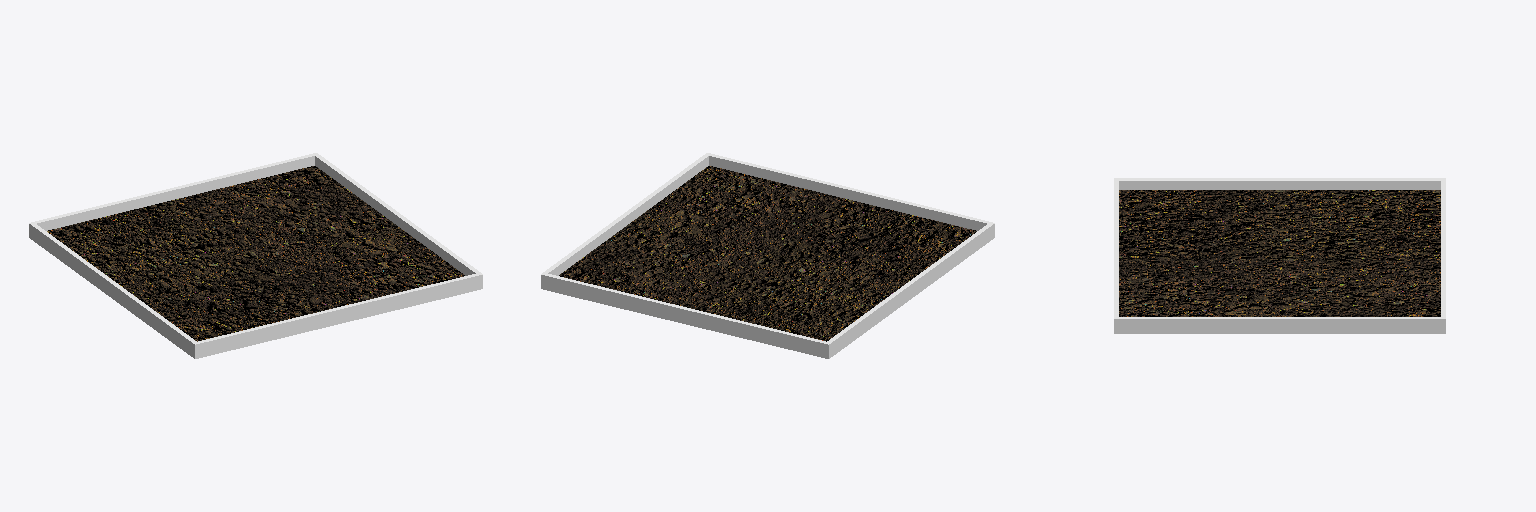
3 views of the same model, side by side, from view 1: azimuth 30°, elevation 25°; view 2: azimuth 150°, elevation 25°; view 3: azimuth 270°, elevation 25° (orthographic).
Parts seen in each view (by area): view 1: Cube, Cube.004, Cube.003, Cube.001, Cube.002; view 2: Cube, Cube.003, Cube.004, Cube.001, Cube.002; view 3: Cube, Cube.002, Cube.001, Cube.004, Cube.003.
Boxes of the visible parts, <box> form: Cube: <box>47,166,464,341</box>; Cube.004: <box>192,273,482,358</box>; Cube.003: <box>29,153,318,238</box>; Cube.001: <box>31,224,196,356</box>; Cube.002: <box>315,155,480,275</box>; Cube: <box>559,166,976,341</box>; Cube.003: <box>541,273,831,358</box>; Cube.004: <box>705,153,994,238</box>; Cube.001: <box>827,224,992,356</box>; Cube.002: <box>543,155,708,275</box>; Cube: <box>1119,190,1440,316</box>; Cube.002: <box>1119,317,1440,333</box>; Cube.001: <box>1119,178,1440,189</box>; Cube.004: <box>1114,178,1118,333</box>; Cube.003: <box>1441,178,1445,333</box>.
Bounding box in the file's own units: 124 × 6 × 124.
2 materials, 1 textured.